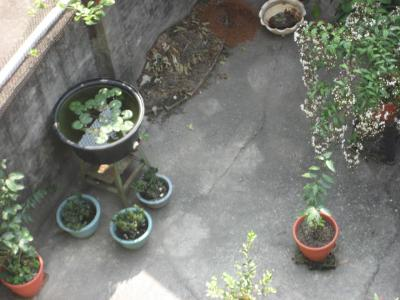bowl: (54, 77, 146, 163), (259, 1, 307, 35)
